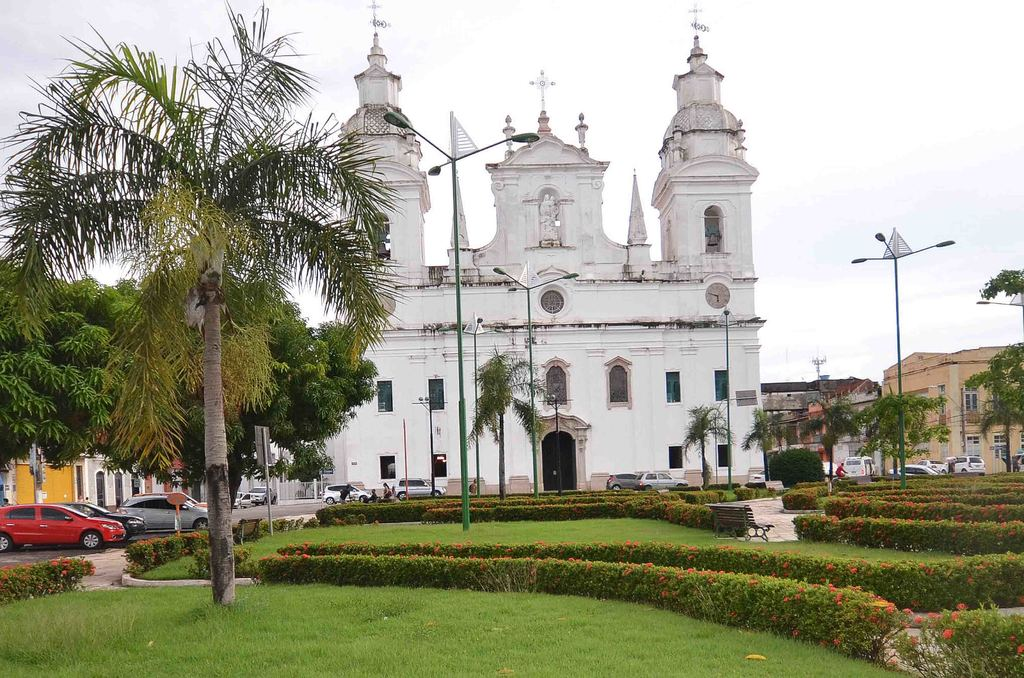Car: (2, 485, 209, 544), (831, 453, 981, 471), (881, 462, 945, 487), (389, 473, 444, 501), (632, 468, 690, 491), (316, 483, 373, 503), (947, 454, 989, 475), (913, 457, 951, 473), (407, 472, 430, 496), (608, 474, 639, 491), (746, 466, 773, 485), (643, 468, 670, 484), (251, 484, 275, 500), (617, 476, 645, 489), (331, 484, 353, 500), (232, 493, 246, 502)
